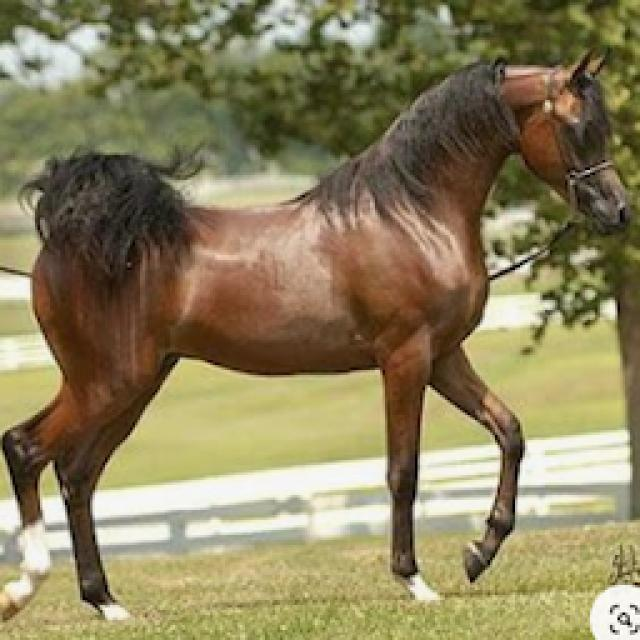Horse: (0, 42, 638, 630)
